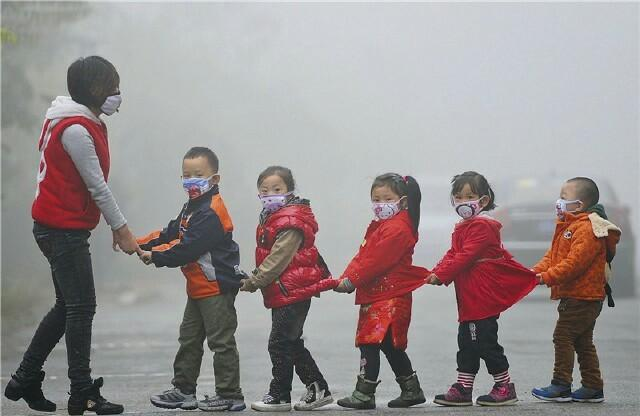OK: (555, 189, 590, 224), (91, 83, 124, 118), (182, 168, 215, 201), (452, 189, 485, 222), (261, 179, 290, 212), (371, 190, 401, 221)
